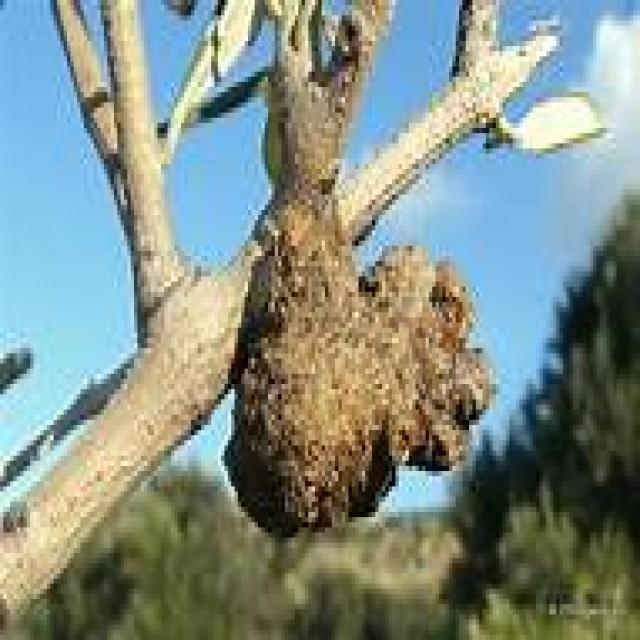Tuberculosis: (238, 175, 489, 532)
